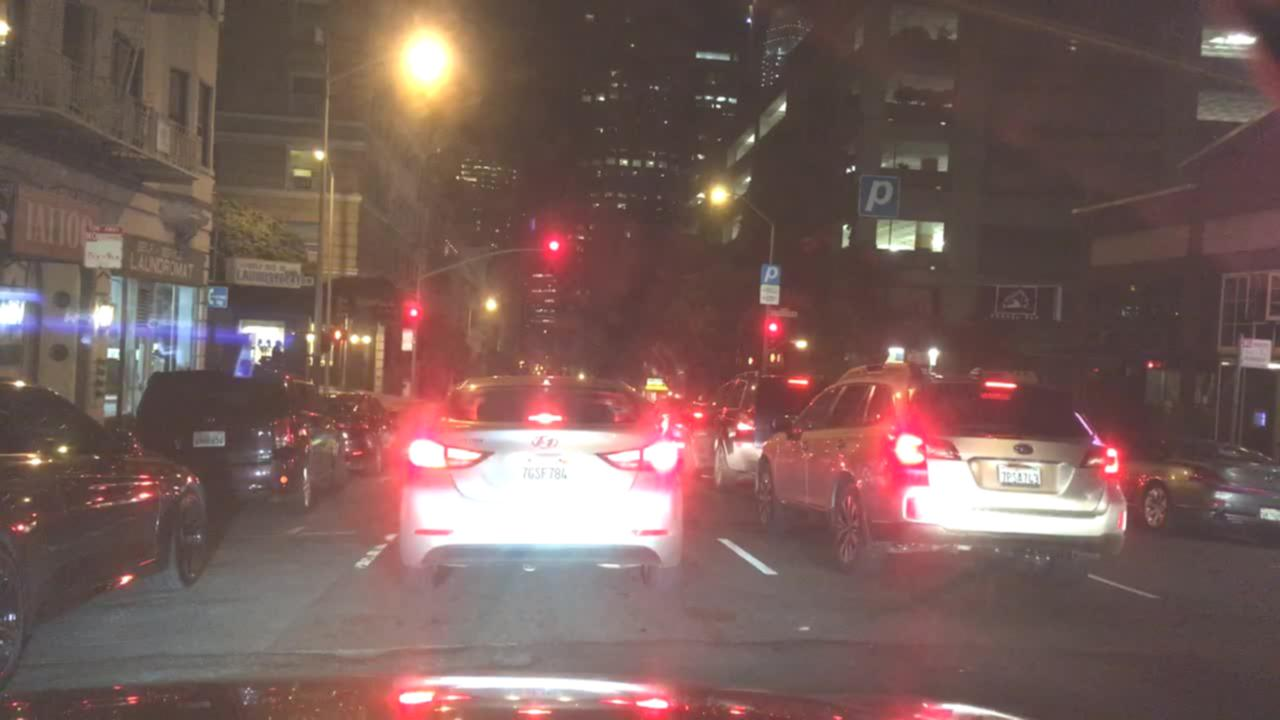Hyundai: (531, 434, 565, 453)
subaru: (1011, 444, 1035, 456)
